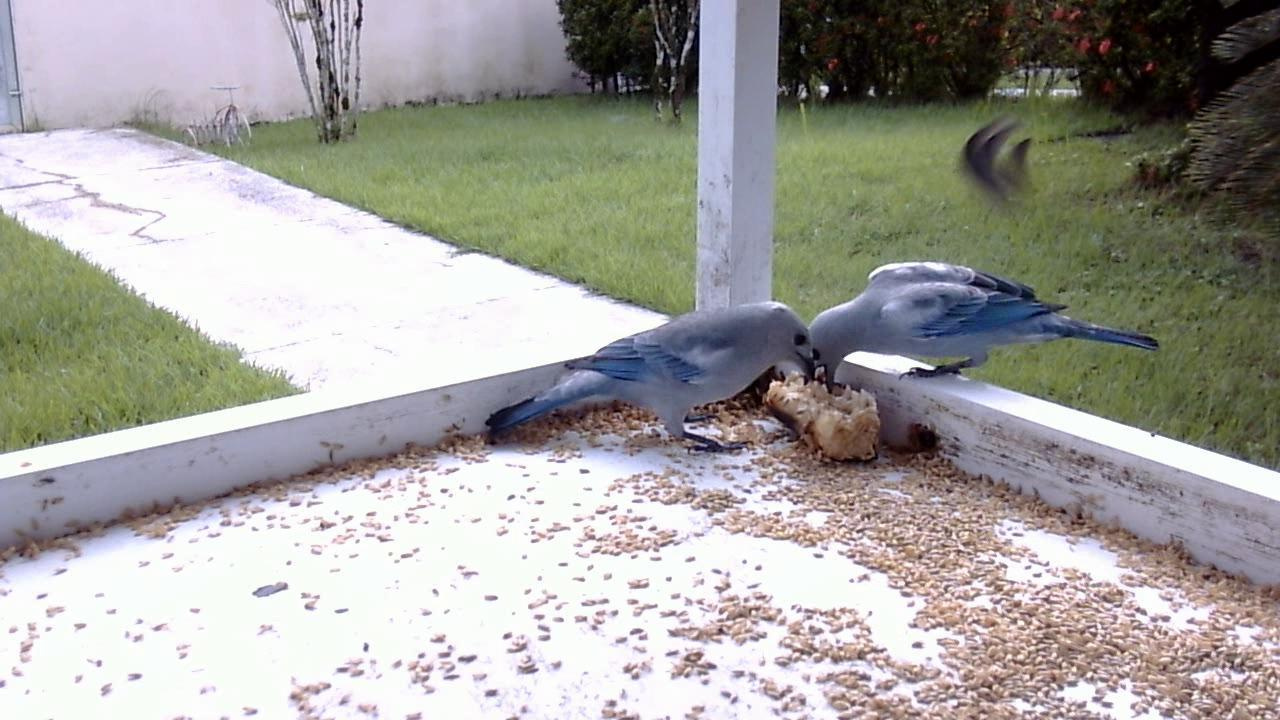sanhaco_da_amazonia: (800, 252, 1163, 417), (490, 291, 826, 463)
